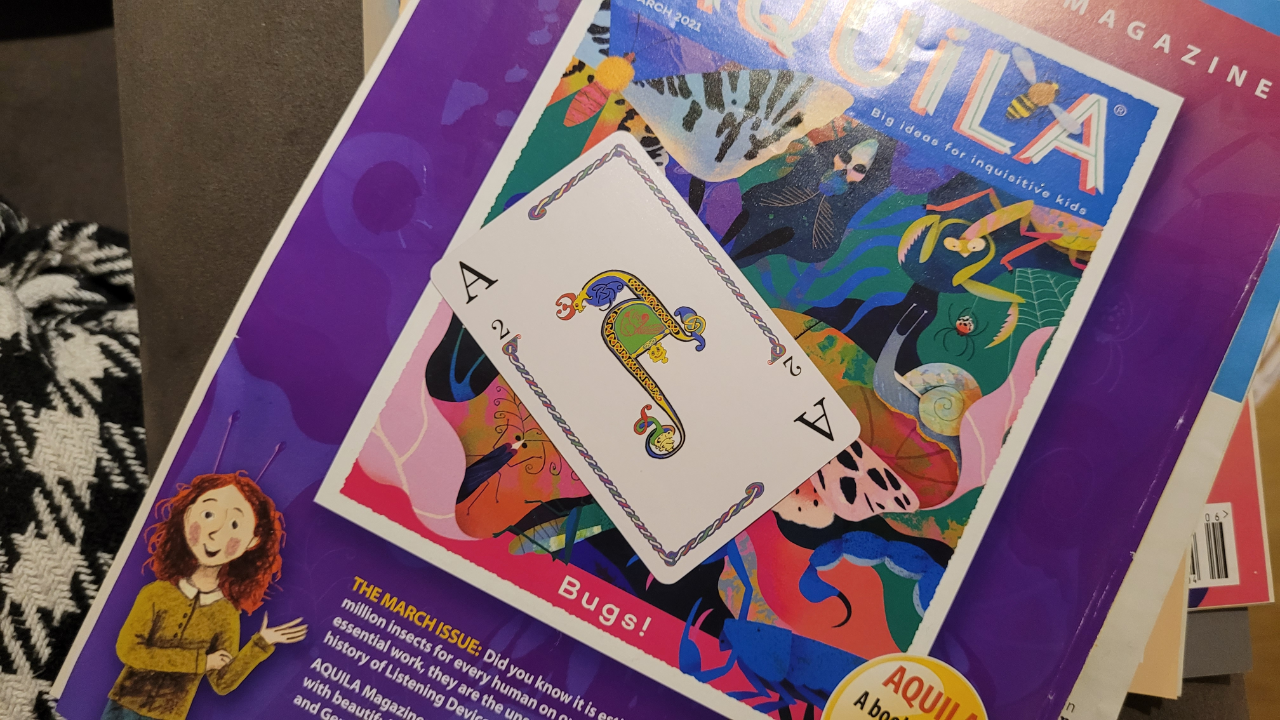quiddler_card: (409, 110, 891, 608)
